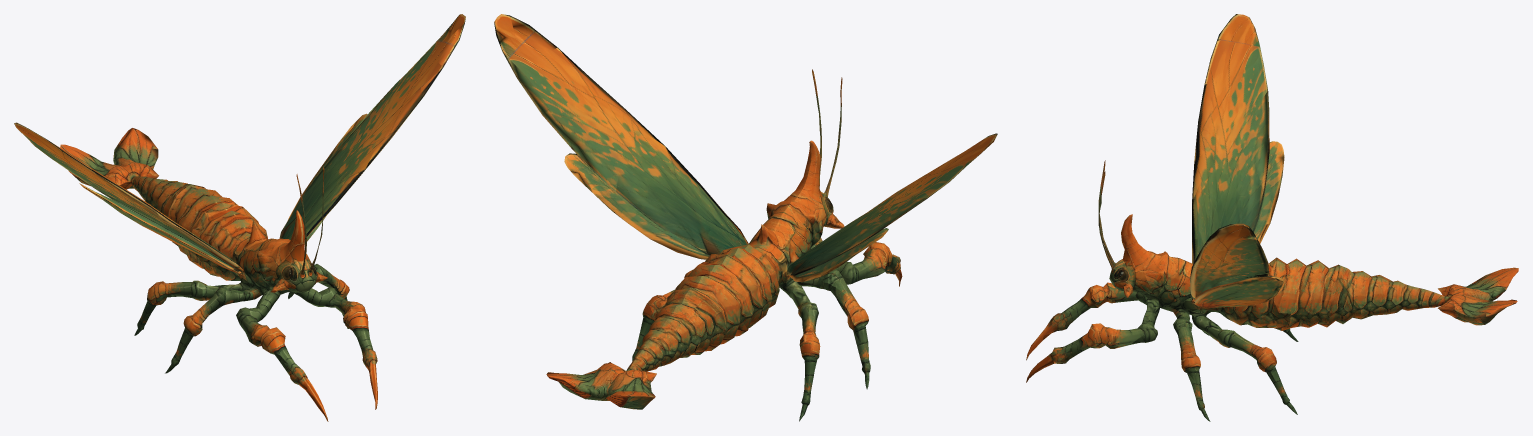
File: CRT-011.glb
The picture shows the model from 3 angles, left to right: view 1: azimuth 30°, elevation 25°; view 2: azimuth 150°, elevation 25°; view 3: azimuth 270°, elevation 25°; orthographic projection. The views are drawn at different scales.
Visible parts, largest first — view 1: mesh_node; view 2: mesh_node; view 3: mesh_node.
Boxes of the visible parts, x1,y1,x2,y2 form: mesh_node: [14, 14, 465, 421]; mesh_node: [494, 14, 997, 421]; mesh_node: [1026, 14, 1518, 421].
Bounding box in the file's own units: 1 × 0.582 × 0.9961.
1 material, 1 textured.
